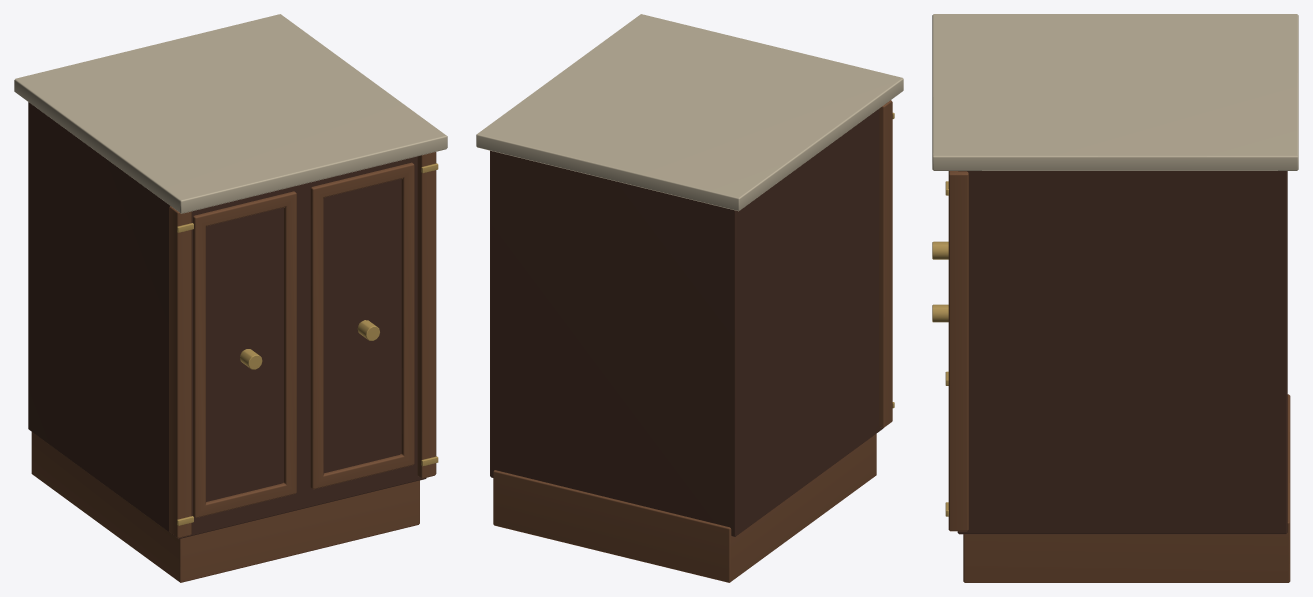
File: rpg-mansion-kitchen-base-cupboard-01.glb
3 views of the same model, side by side, from view 1: azimuth 30°, elevation 25°; view 2: azimuth 150°, elevation 25°; view 3: azimuth 270°, elevation 25° (orthographic). The views are drawn at different scales.
Visible parts, largest first — view 1: rpg-mansion-kitchen-base-cupboard-01; view 2: rpg-mansion-kitchen-base-cupboard-01; view 3: rpg-mansion-kitchen-base-cupboard-01.
Part boxes in pixels (<box>): rpg-mansion-kitchen-base-cupboard-01: <box>14,14,447,582</box>; rpg-mansion-kitchen-base-cupboard-01: <box>476,14,903,582</box>; rpg-mansion-kitchen-base-cupboard-01: <box>932,14,1298,582</box>.
Bounding box in the file's own units: 0.6 × 0.85 × 0.65.
